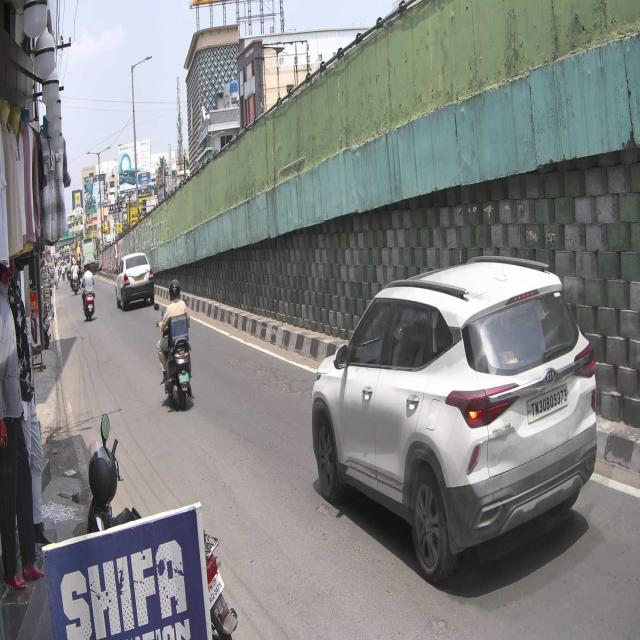single_rider: (156, 276, 193, 413)
